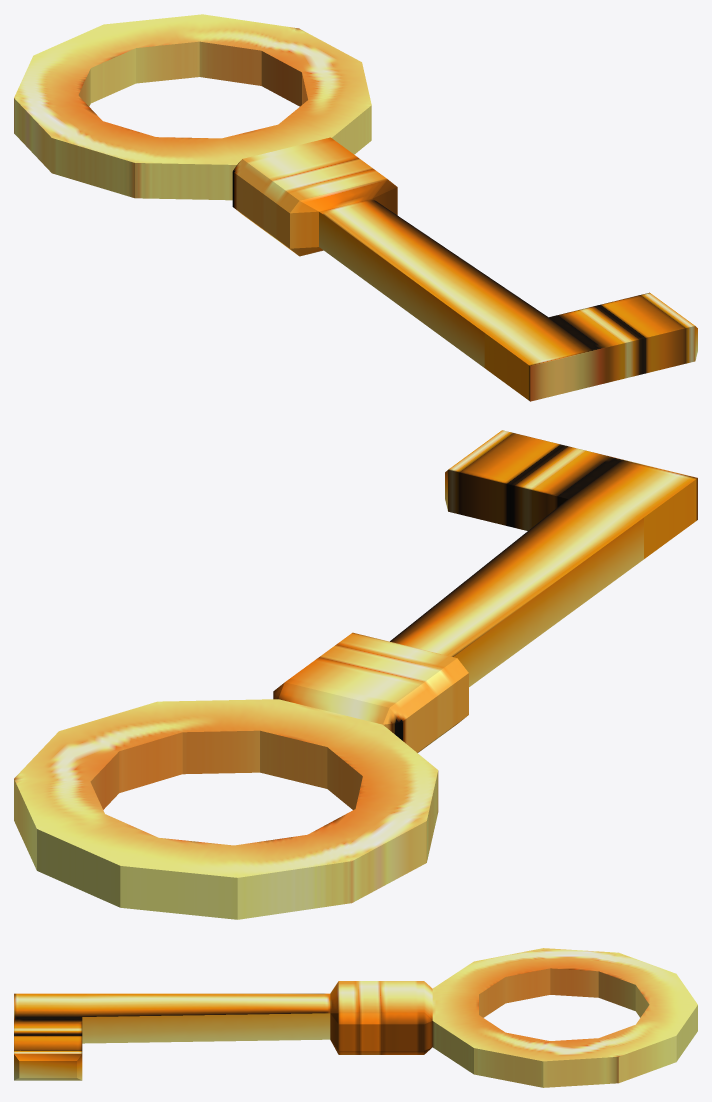
File: Key.fbx
The picture shows the model from 3 angles, top to bottom: view 1: azimuth 30°, elevation 25°; view 2: azimuth 150°, elevation 25°; view 3: azimuth 270°, elevation 25°; orthographic projection. The views are drawn at different scales.
Parts seen in each view (by area): view 1: Key; view 2: Key; view 3: Key.
Boxes of the visible parts, x1=… form: Key: x1=14, y1=14, x2=697, y2=401; Key: x1=14, y1=430, x2=697, y2=919; Key: x1=14, y1=948, x2=697, y2=1087.
Size of the model in its own units: 1.98 by 0.3398 by 5.05.
1 material, 1 textured.
